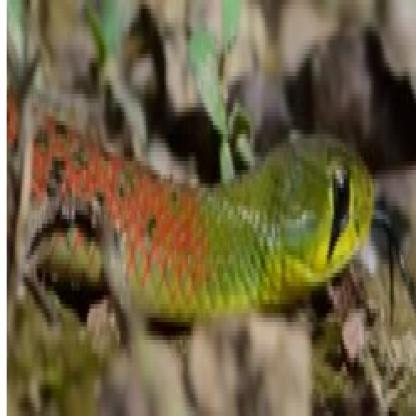snakes: (23, 96, 379, 323)
